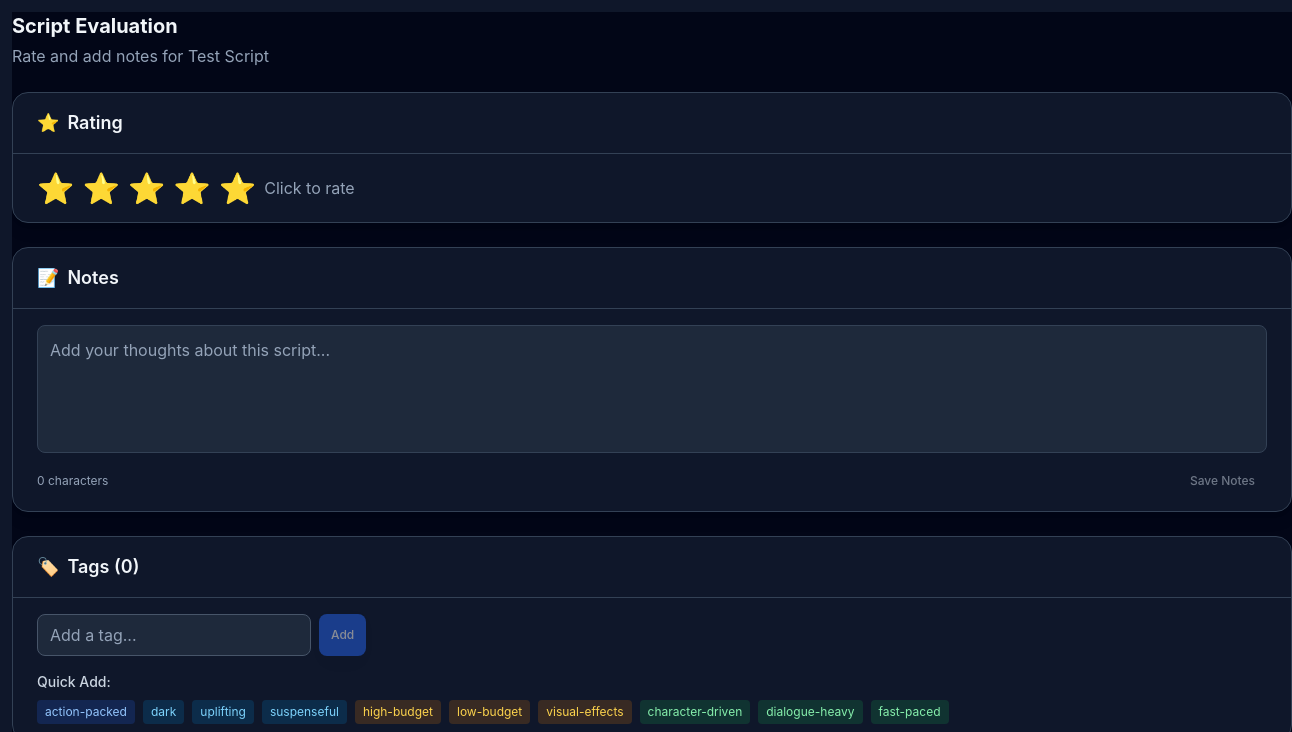
Test: ScriptRating › shows tag suggestions when typing
The image size is (1292, 732).
Type "action" into the field with placeholder "Add a tag..." at (174, 635), box [37,614,311,656]
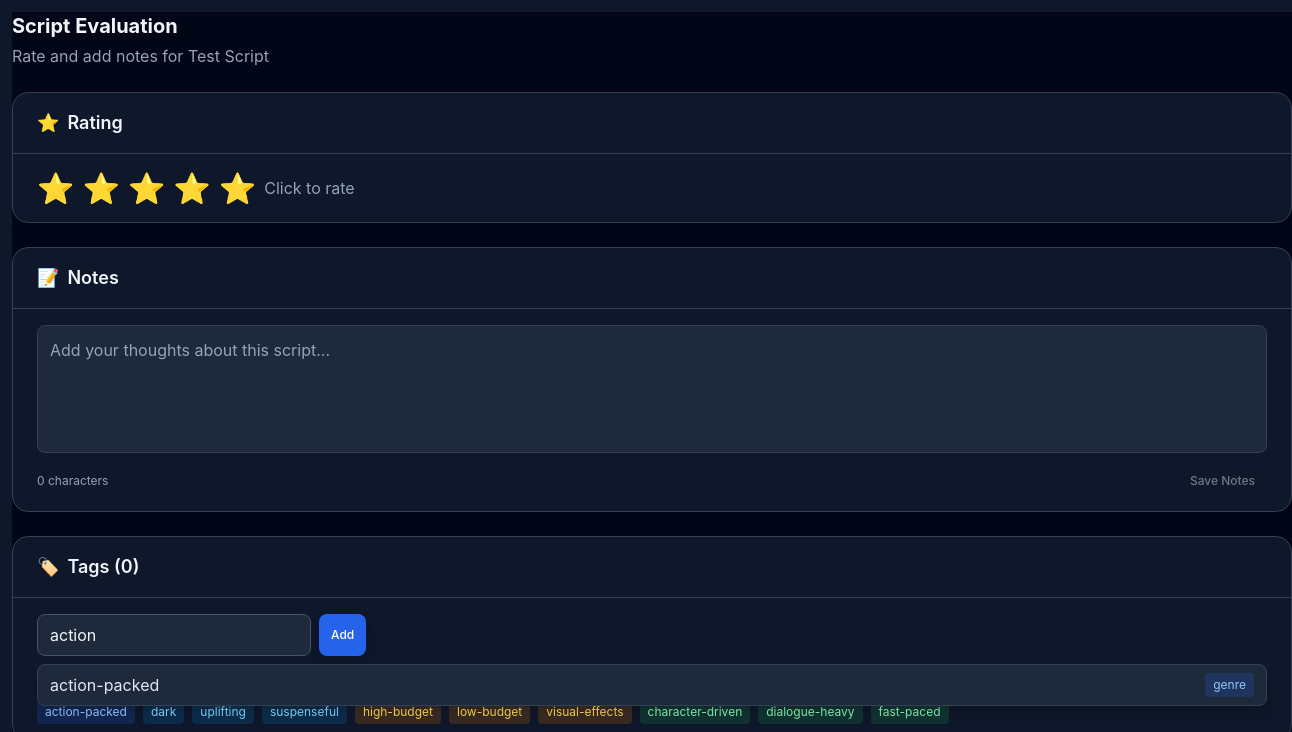
Result: the text "action-packed" is shown at [50,673,159,697]
